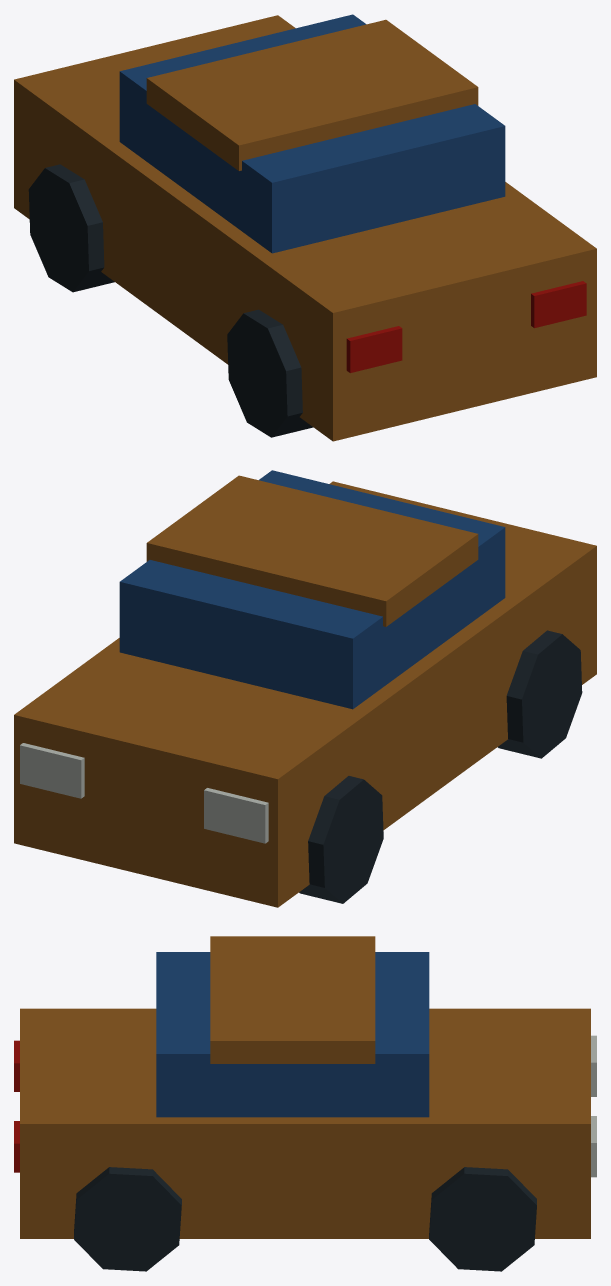
The model's file is car-orange.glb.
3 views of the same model, one above another, from view 1: azimuth 30°, elevation 25°; view 2: azimuth 150°, elevation 25°; view 3: azimuth 270°, elevation 25° (orthographic). The views are drawn at different scales.
Visible parts, largest first — view 1: car-orange; view 2: car-orange; view 3: car-orange.
Boxes of the visible parts, left/top/right/bottom form: car-orange: left=14, top=14, right=596, bottom=441; car-orange: left=14, top=470, right=596, bottom=907; car-orange: left=14, top=936, right=596, bottom=1271.
Bounding box in the file's own units: 4.8 × 3.8 × 9.19.
